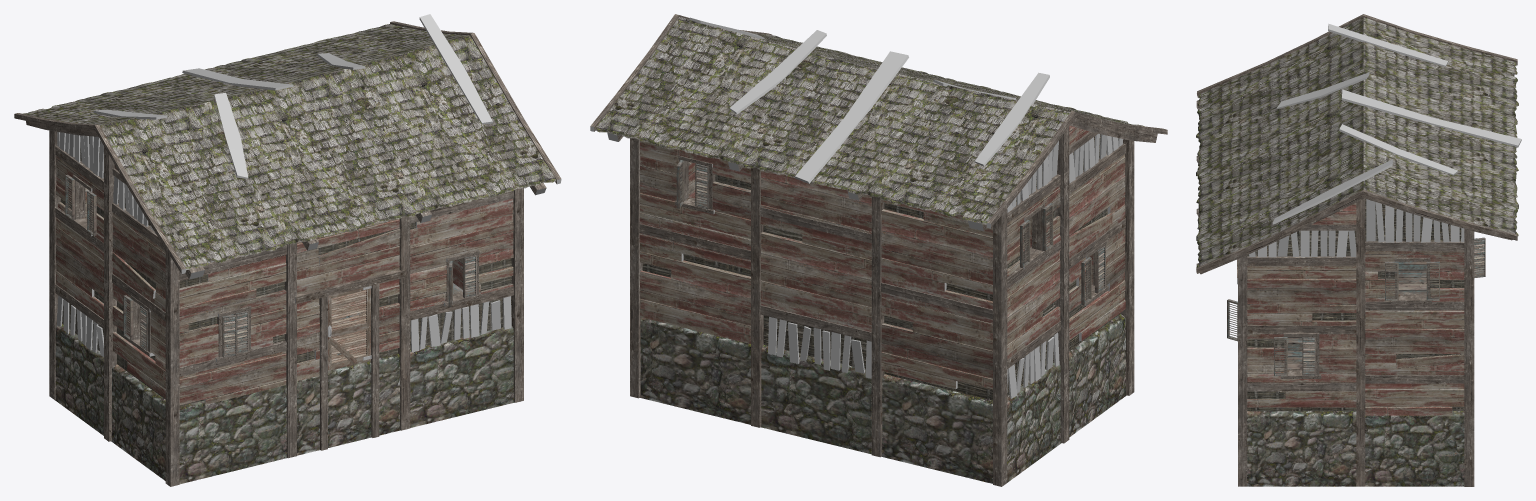
Rendered from House11.fbx.
3 views of the same model, side by side, from view 1: azimuth 30°, elevation 25°; view 2: azimuth 150°, elevation 25°; view 3: azimuth 270°, elevation 25° (orthographic). The views are drawn at different scales.
Visible parts, largest first — view 1: Roof, Base, Floor, Windows, Doors; view 2: Base, Roof, Floor, Windows; view 3: Roof, Base, Floor, Windows.
Part boxes in pixels (bbox=[...]): Roof: bbox=[14, 14, 561, 279]; Base: bbox=[49, 130, 523, 486]; Floor: bbox=[55, 283, 513, 484]; Windows: bbox=[65, 174, 481, 362]; Doors: bbox=[328, 286, 371, 370]; Base: bbox=[630, 117, 1134, 486]; Roof: bbox=[590, 14, 1167, 230]; Floor: bbox=[640, 314, 1126, 483]; Windows: bbox=[675, 155, 1108, 305]; Roof: bbox=[1196, 14, 1521, 274]; Base: bbox=[1237, 198, 1474, 486]; Floor: bbox=[1247, 261, 1464, 486]; Windows: bbox=[1227, 237, 1485, 378].
Bounding box in the file's own units: 11.7 × 9.76 × 9.07.
